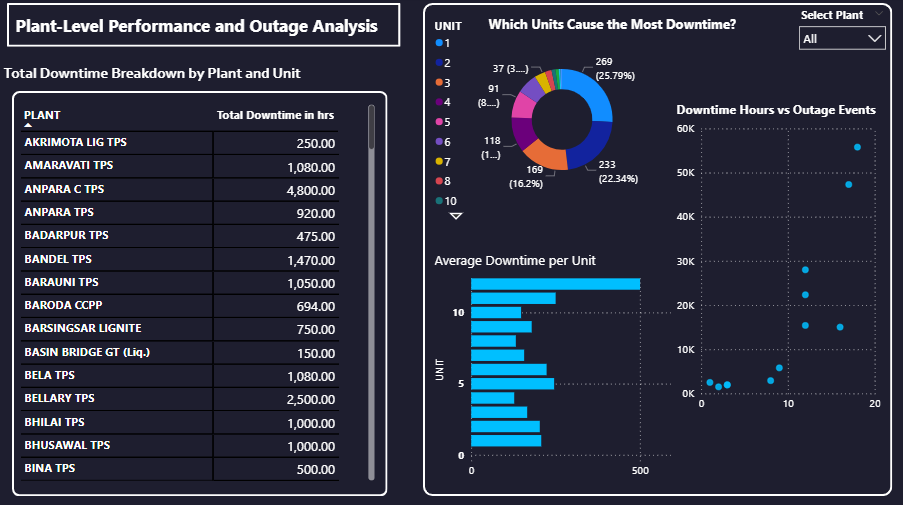

This screenshot's page, from the dashboard's own definition file:
{"tool":"powerbi","page":{"name":"plant","canvas":[1280,720],"ordinal":1},"visuals":[{"type":"shape","box":[10.1,8.4,557.7,62.2],"z":0},{"type":"textbox","box":[16.8,18.5,544.3,43.7],"z":1000},{"type":"shape","box":[16.8,132.7,532.5,574.5],"z":2000},{"type":"pivotTable","fields":{"Rows":["Sheet1 (2).PLANT"],"Values":["Sum(Sheet1 (2).TOTAL_DOWNTIME)"]},"box":[23.5,147.8,512.3,542.6],"z":3000},{"type":"shape","box":[599.7,8.4,665.2,698.8],"z":4000},{"type":"textbox","box":[0,89,455.2,43.7],"z":5000},{"type":"donutChart","fields":{"Category":["Sheet1 (2).UNIT"],"Y":["Sheet1 (2).total_outage"]},"box":[611.4,23.5,312.4,299],"z":6000},{"type":"textbox","box":[687.4,19.8,365.7,69.4],"z":7000},{"type":"clusteredBarChart","title":"Average Downtime per Unit","fields":{"Category":["Sheet1 (2).UNIT"],"Y":["Avg(Sheet1 (2).TOTAL_DOWNTIME)"]},"box":[611.4,359.5,361.2,330.9],"z":8000},{"type":"scatterChart","title":"Downtime Hours vs Outage Events","fields":{"X":["Sheet1 (2).Total Affected States"],"Y":["Sum(Sheet1 (2).TOTAL_DOWNTIME)"],"Category":["Sheet1 (2).UNIT"]},"box":[954.1,147.8,299,448.5],"z":9000},{"type":"slicer","fields":{"Values":["Sheet1 (2).PLANT"]},"box":[1122.1,8.4,142.8,80.6],"z":10000}]}

Visuals, with their boxes in screenshot pixels (x1, y1, x2, y2), scaled from the page's 1280x720 canvas onto the 903x505 screenshot:
shape: {"left": 7, "top": 6, "right": 401, "bottom": 50}
textbox: {"left": 12, "top": 13, "right": 396, "bottom": 44}
shape: {"left": 12, "top": 93, "right": 388, "bottom": 496}
pivotTable - Sheet1 (2).PLANT x Sum(Sheet1 (2).TOTAL_DOWNTIME): {"left": 17, "top": 104, "right": 378, "bottom": 484}
shape: {"left": 423, "top": 6, "right": 892, "bottom": 496}
textbox: {"left": 0, "top": 62, "right": 321, "bottom": 93}
donutChart - Sheet1 (2).UNIT x Sheet1 (2).total_outage: {"left": 431, "top": 16, "right": 652, "bottom": 226}
textbox: {"left": 485, "top": 14, "right": 743, "bottom": 63}
"Average Downtime per Unit" clusteredBarChart: {"left": 431, "top": 252, "right": 686, "bottom": 484}
"Downtime Hours vs Outage Events" scatterChart: {"left": 673, "top": 104, "right": 884, "bottom": 418}
slicer - Sheet1 (2).PLANT: {"left": 792, "top": 6, "right": 892, "bottom": 62}
